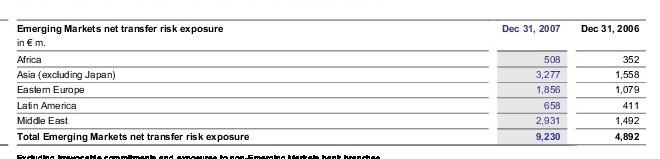table: (0, 0, 660, 159)
